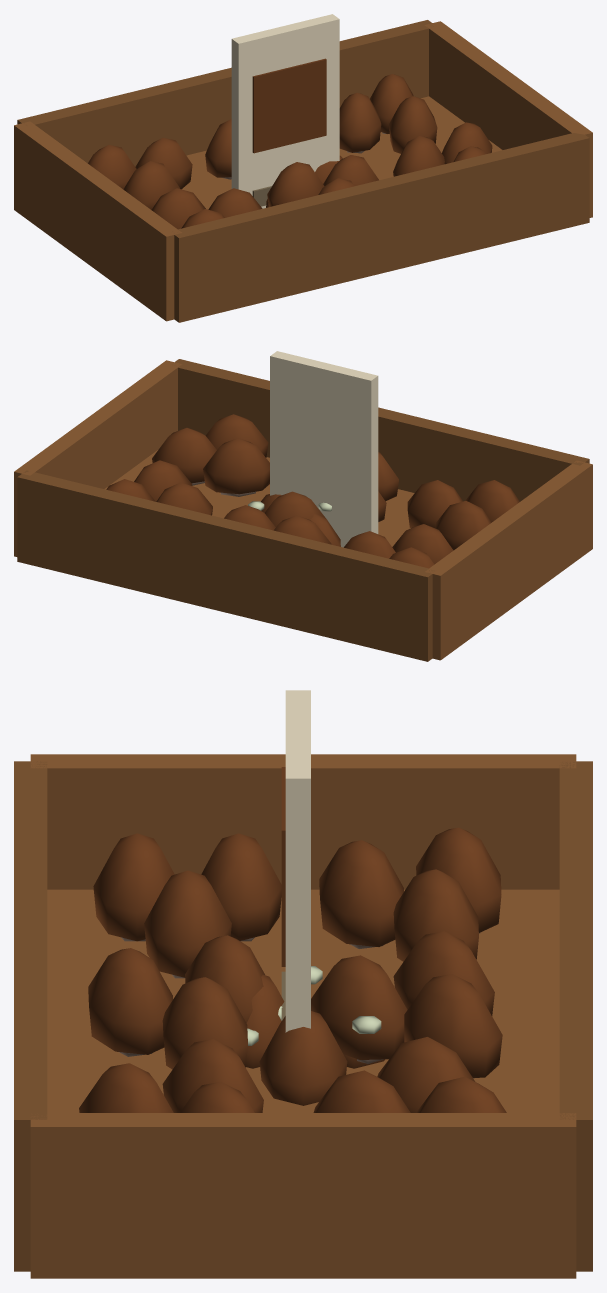
Rendered from Nut_Chestnut.fbx.
The picture shows the model from 3 angles, top to bottom: view 1: azimuth 30°, elevation 25°; view 2: azimuth 150°, elevation 25°; view 3: azimuth 270°, elevation 25°; orthographic projection. The views are drawn at different scales.
Parts seen in each view (by area): view 1: Nut_Chestnut__Stack, Nut_Chestnut__Seed; view 2: Nut_Chestnut__Stack, Nut_Chestnut__Seed, Nut_Chestnut; view 3: Nut_Chestnut__Stack, Nut_Chestnut__Seed, Nut_Chestnut, Nut_Chestnut__Rotten.
Boxes of the visible parts, bbox=[...] form: Nut_Chestnut__Stack: bbox=[14, 20, 592, 322]; Nut_Chestnut__Seed: bbox=[231, 14, 339, 208]; Nut_Chestnut__Stack: bbox=[14, 359, 592, 661]; Nut_Chestnut__Seed: bbox=[270, 351, 378, 547]; Nut_Chestnut: bbox=[261, 494, 340, 546]; Nut_Chestnut__Stack: bbox=[14, 754, 592, 1278]; Nut_Chestnut__Seed: bbox=[281, 690, 310, 1032]; Nut_Chestnut: bbox=[246, 974, 384, 1105]; Nut_Chestnut__Rotten: bbox=[247, 966, 381, 1045].
Size of the model in its own units: 0.211 by 0.09 by 0.1385.
